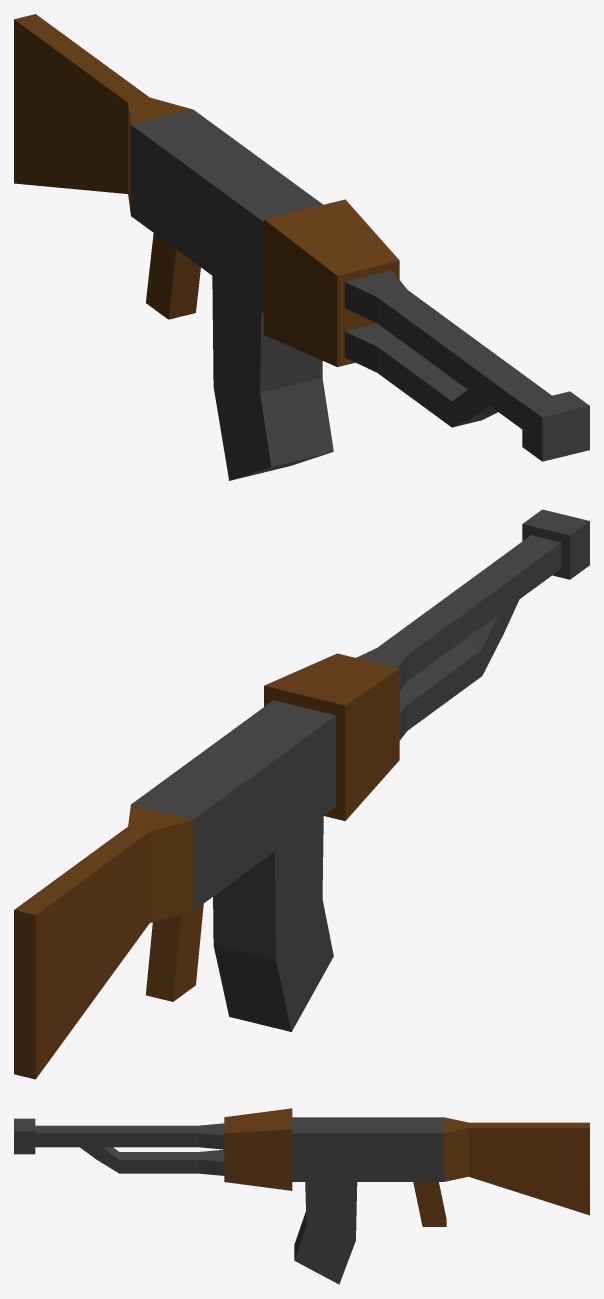
File: assault rifle.FBX
3 views of the same model, one above another, from view 1: azimuth 30°, elevation 25°; view 2: azimuth 150°, elevation 25°; view 3: azimuth 270°, elevation 25° (orthographic). The views are drawn at different scales.
Visible parts, largest first — view 1: Box001; view 2: Box001; view 3: Box001.
Boxes of the visible parts, x1=… form: Box001: x1=14, y1=14, x2=589, y2=480; Box001: x1=14, y1=509, x2=589, y2=1079; Box001: x1=14, y1=1108, x2=589, y2=1284.
Bounding box in the file's own units: 23.09 × 80.26 × 266.
